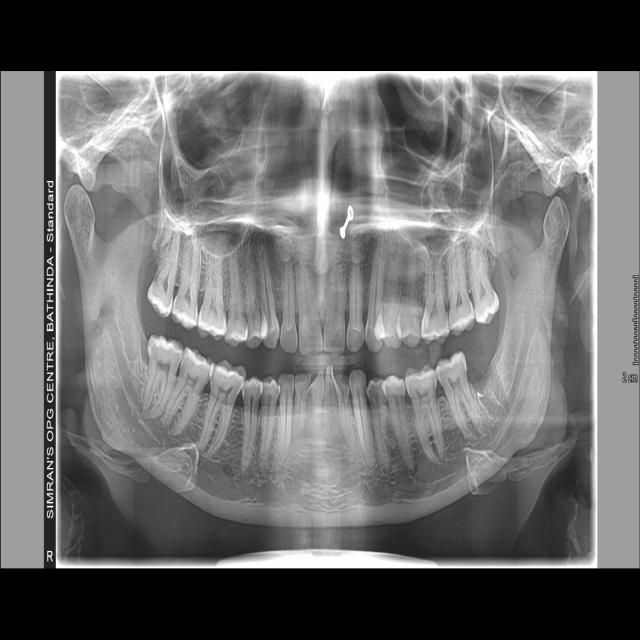Mandibular Canal: (411, 310, 534, 484), (104, 308, 226, 477)
maxillary sinus: (381, 97, 492, 253), (160, 102, 267, 258)
